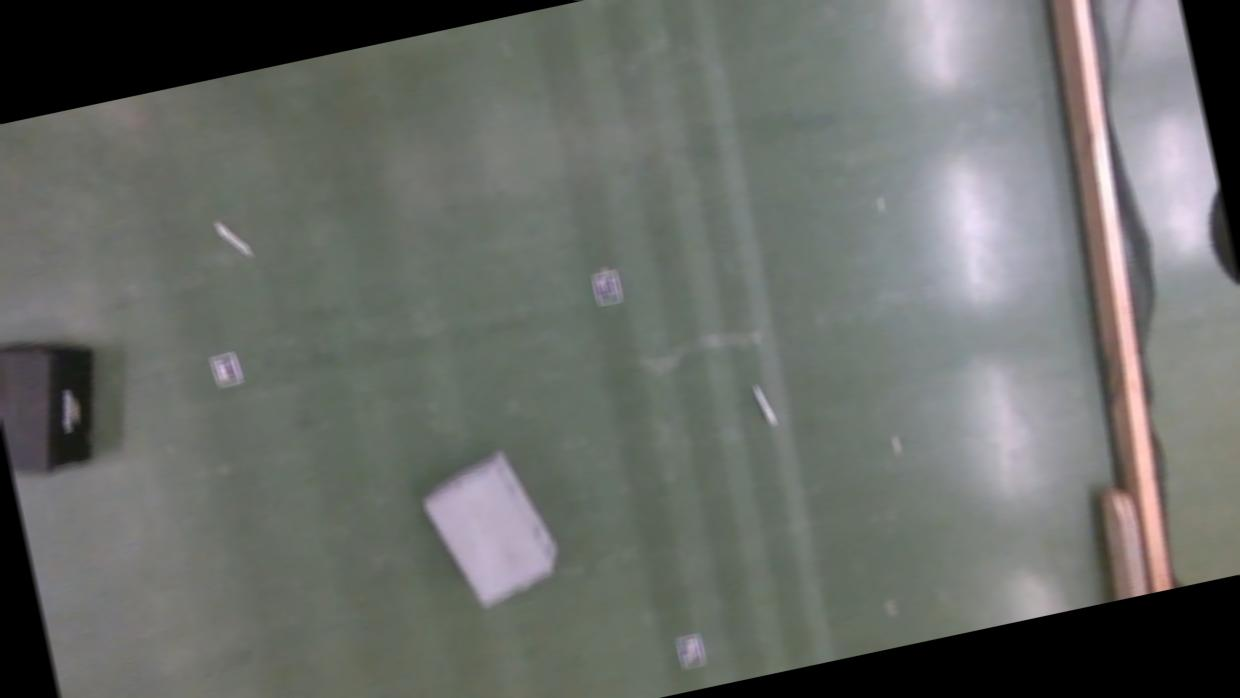probes: (214, 214, 253, 264), (752, 381, 778, 430)
rako: (416, 442, 566, 614), (0, 328, 118, 484)
